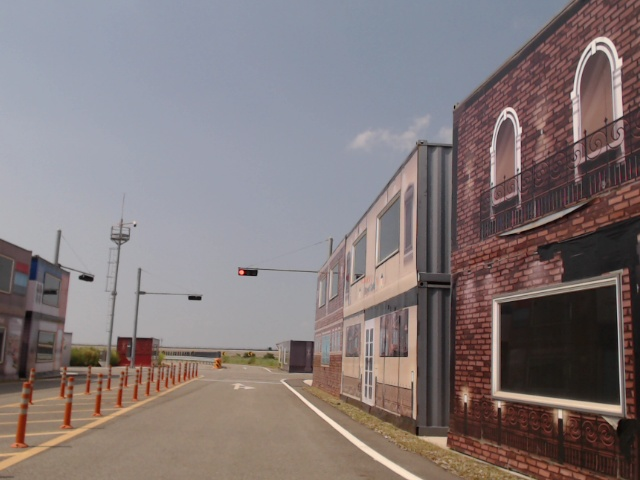red_3: (238, 269, 257, 276)
